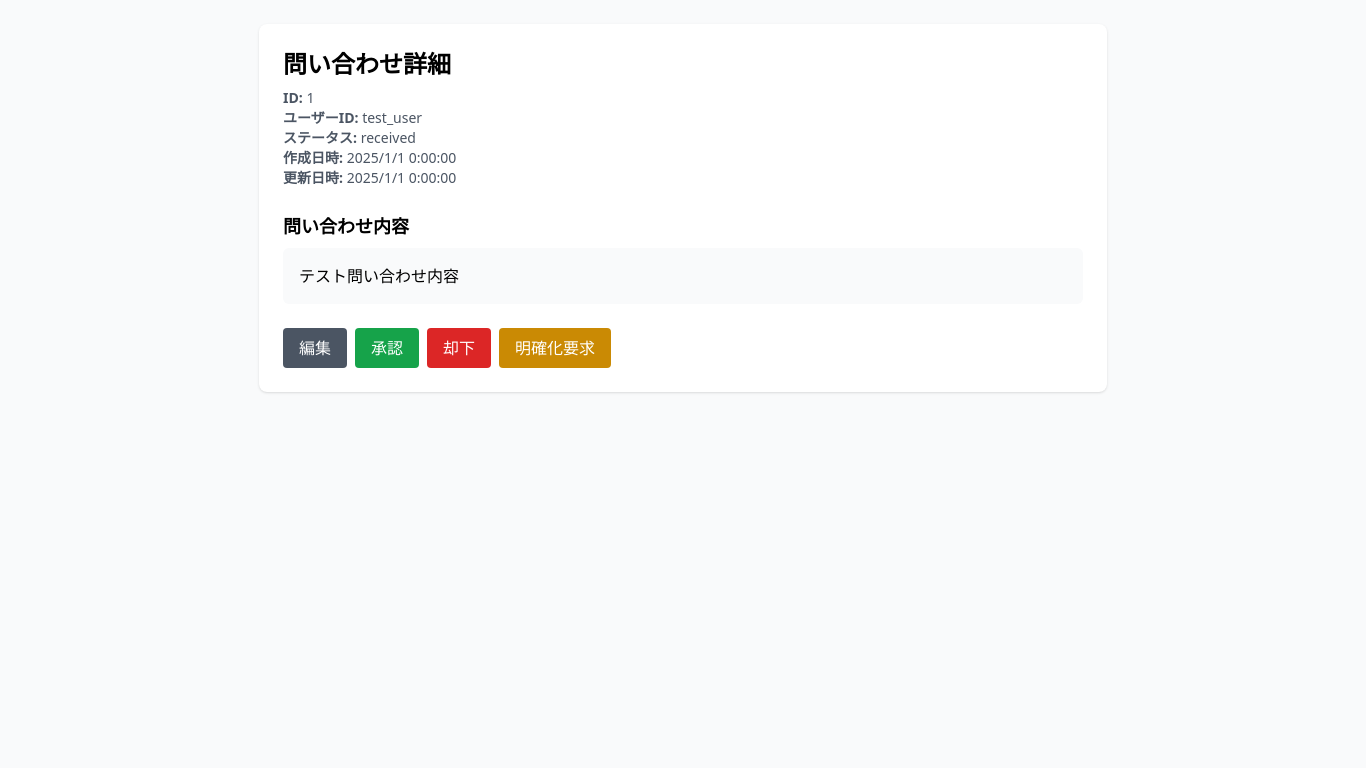
Test: InquiryDetail › Reject operation › rejects inquiry without reason
Check: the text "テスト問い合わせ内容" is shown, box [283,248,1083,304]
Click the button "却下".
click(459, 348)  # box [427,328,491,368]
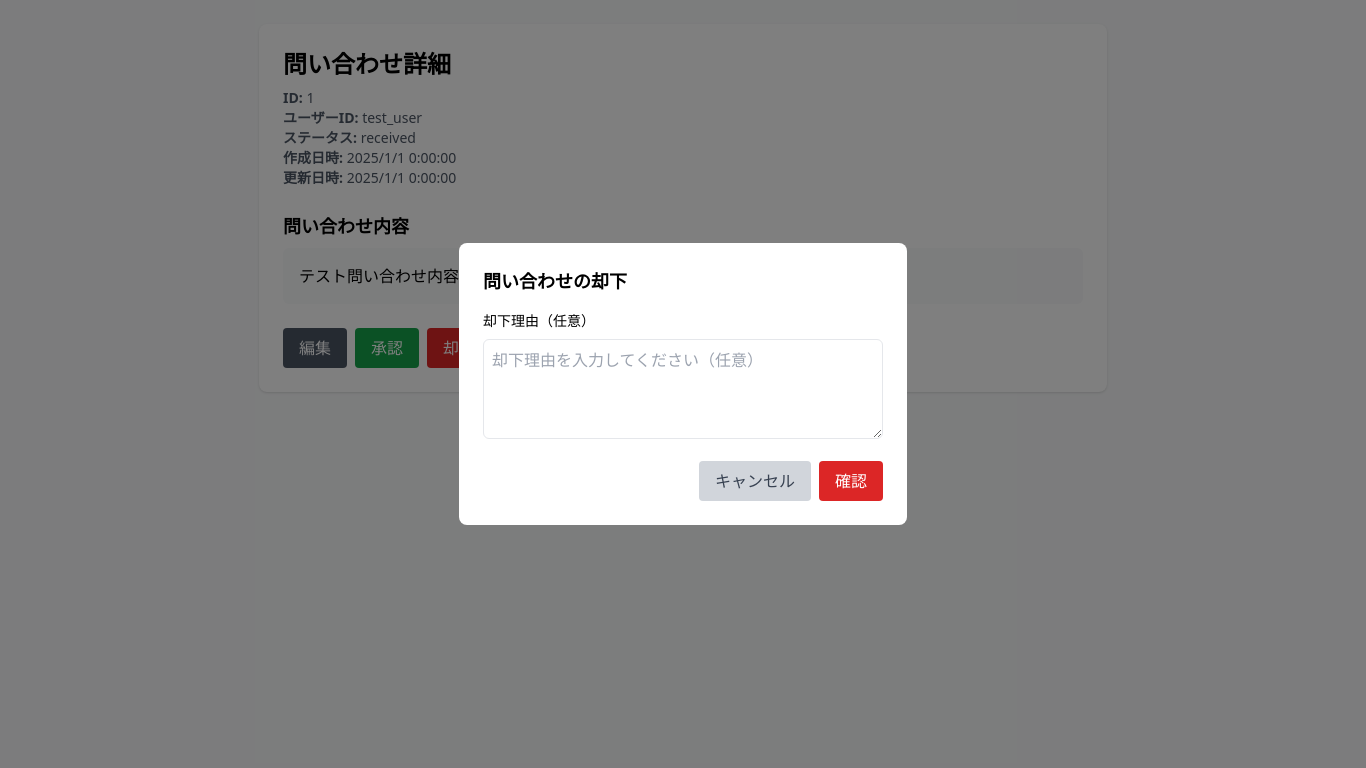
# Click confirm button in dialog
Click the button "確認".
click(851, 481)  # box [819,461,883,501]
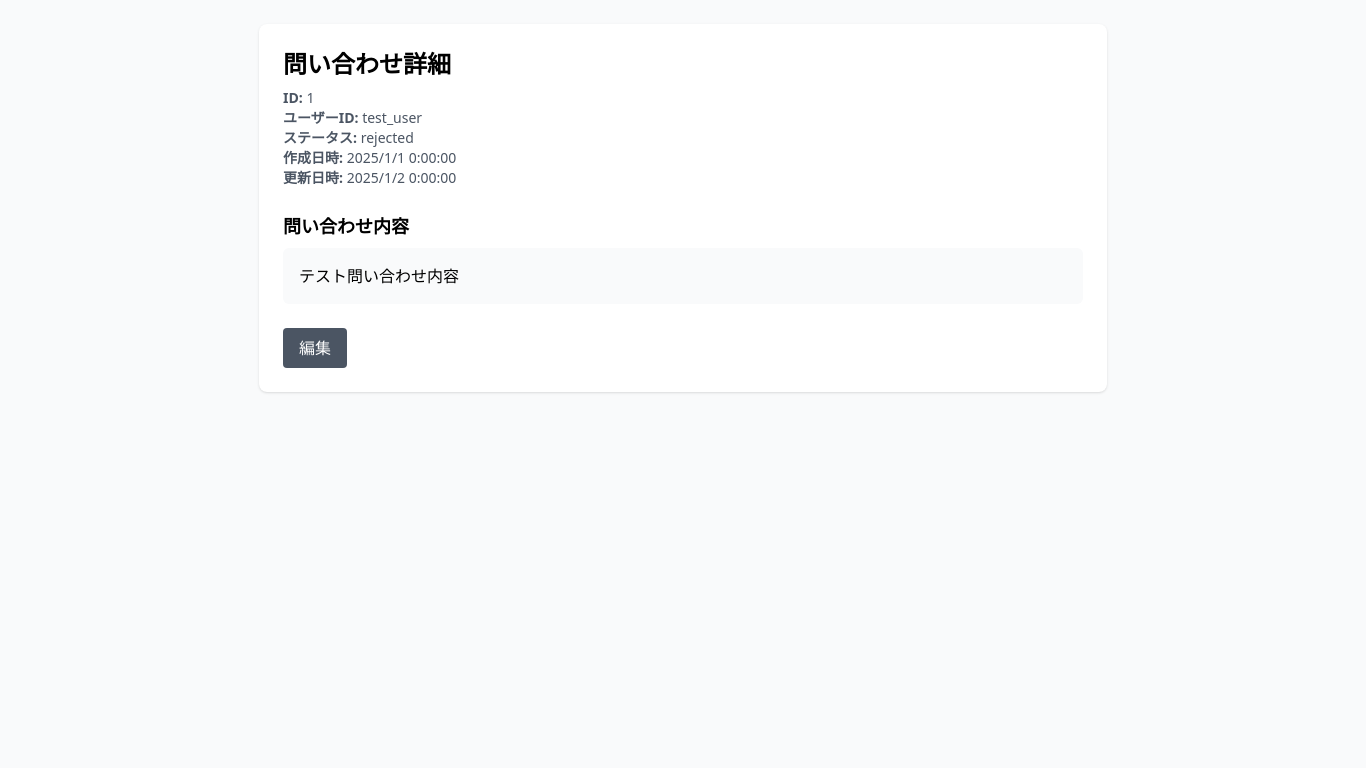
Check: the text "rejected" is shown, box [361,128,414,147]
